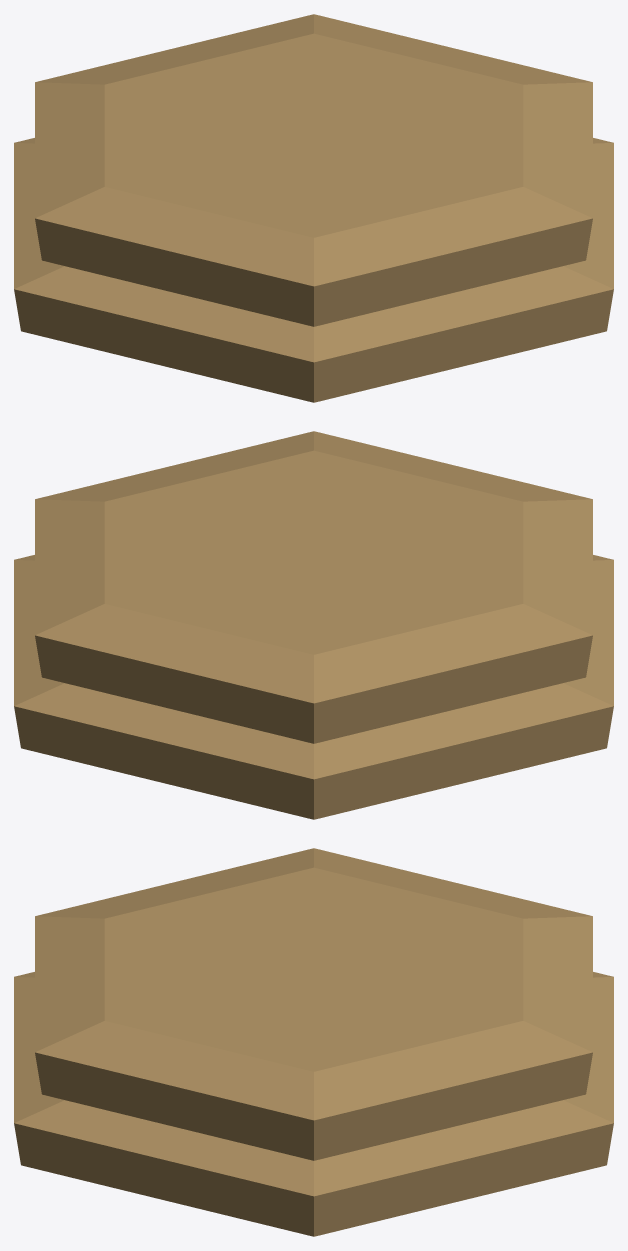
The model's file is SM_Prop_RopeCoil_LQ.glb.
3 views of the same model, one above another, from view 1: azimuth 30°, elevation 25°; view 2: azimuth 150°, elevation 25°; view 3: azimuth 270°, elevation 25° (orthographic).
Visible parts, largest first — view 1: SM_Prop_RopeCoil_LQ; view 2: SM_Prop_RopeCoil_LQ; view 3: SM_Prop_RopeCoil_LQ.
Part boxes in pixels (box(x1,y1,x2,y2)): SM_Prop_RopeCoil_LQ: box(14, 14, 613, 402); SM_Prop_RopeCoil_LQ: box(14, 431, 613, 819); SM_Prop_RopeCoil_LQ: box(14, 848, 613, 1236).
Size of the model in its own units: 0.86 by 0.19 by 0.7448.
1 material, 1 textured.
